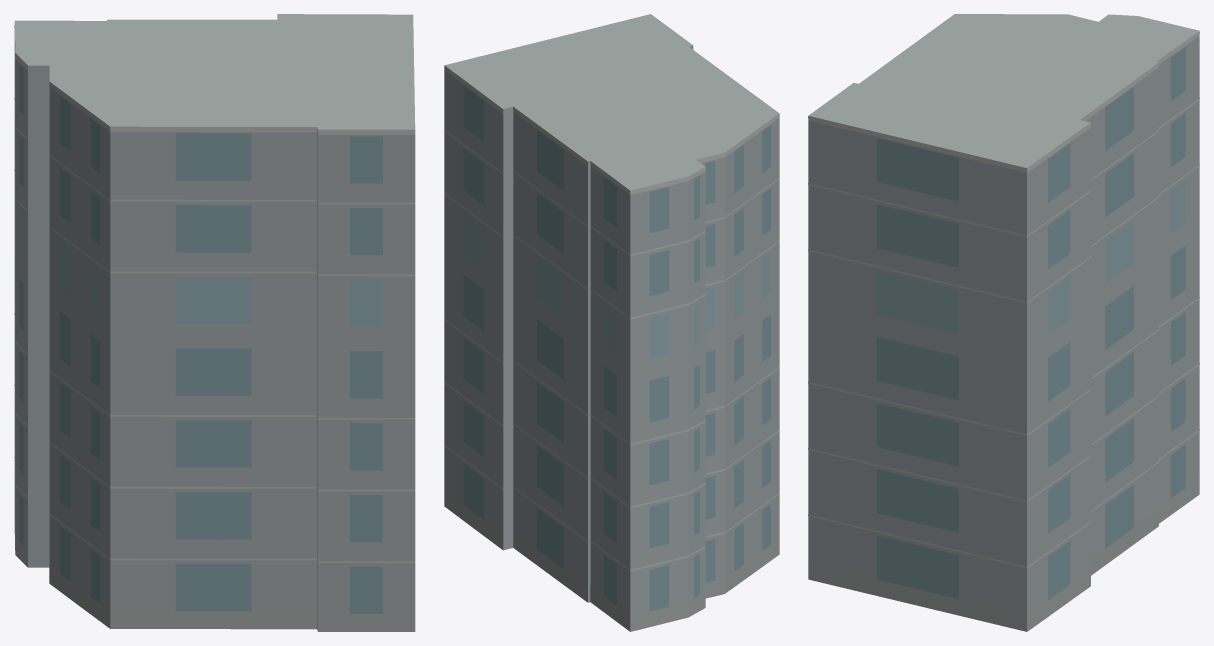
Rendered from survey-upis-32655022.glb.
3 renders of one model, left to right at view 1: azimuth 30°, elevation 25°; view 2: azimuth 150°, elevation 25°; view 3: azimuth 270°, elevation 25°, orthographic. The views are drawn at different scales.
Visible parts, largest first — view 1: survey-upis-32655022.tmp; view 2: survey-upis-32655022.tmp; view 3: survey-upis-32655022.tmp.
Boxes of the visible parts, bbox=[...] form: survey-upis-32655022.tmp: bbox=[14, 14, 415, 631]; survey-upis-32655022.tmp: bbox=[444, 14, 779, 631]; survey-upis-32655022.tmp: bbox=[808, 14, 1199, 631].
Bounding box in the file's own units: 16.49 × 23.1 × 17.69.
